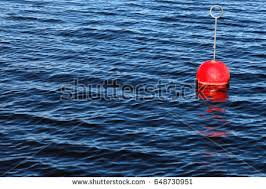buoy: (197, 61, 231, 87)
